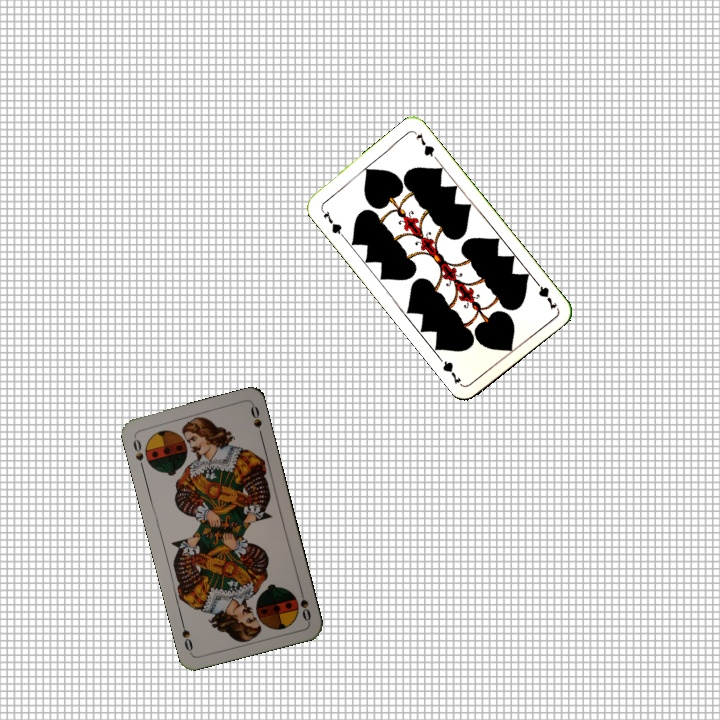G7: (530, 276, 560, 313), (317, 205, 346, 240)
SO: (296, 584, 313, 624), (129, 432, 146, 472)
